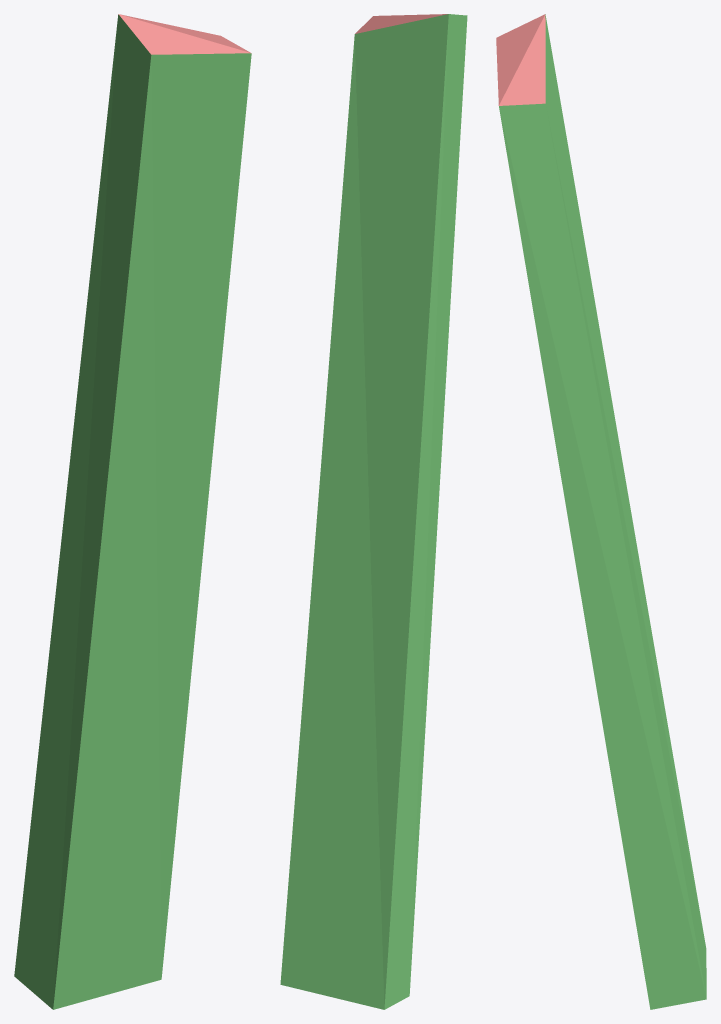
Rendered from V_Obj_S__O_WoodBlock01.gltf.
3 renders of one model, left to right at view 1: azimuth 30°, elevation 25°; view 2: azimuth 150°, elevation 25°; view 3: azimuth 270°, elevation 25°, orthographic. The views are drawn at different scales.
Visible parts, largest first — view 1: O_WoodBlock01; view 2: O_WoodBlock01; view 3: O_WoodBlock01.
Boxes of the visible parts, bbox=[...] form: O_WoodBlock01: bbox=[14, 14, 251, 1009]; O_WoodBlock01: bbox=[280, 14, 467, 1009]; O_WoodBlock01: bbox=[496, 14, 706, 1009].
Bounding box in the file's own units: 0.1034 × 0.8171 × 0.1639.
